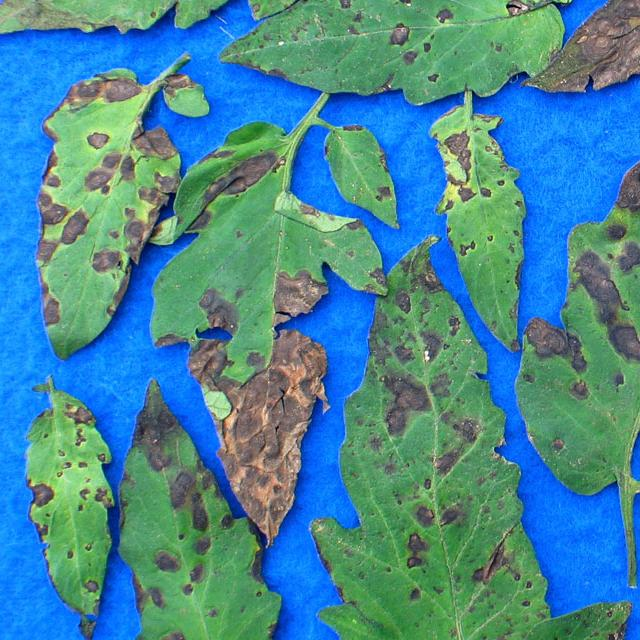Tomato Early blight leaf: (322, 205, 567, 640), (38, 43, 180, 366), (522, 119, 640, 501), (115, 382, 282, 640), (237, 0, 588, 99), (20, 378, 131, 640), (422, 96, 528, 353), (0, 0, 340, 49), (304, 108, 410, 243), (518, 0, 640, 96), (577, 621, 640, 640)
